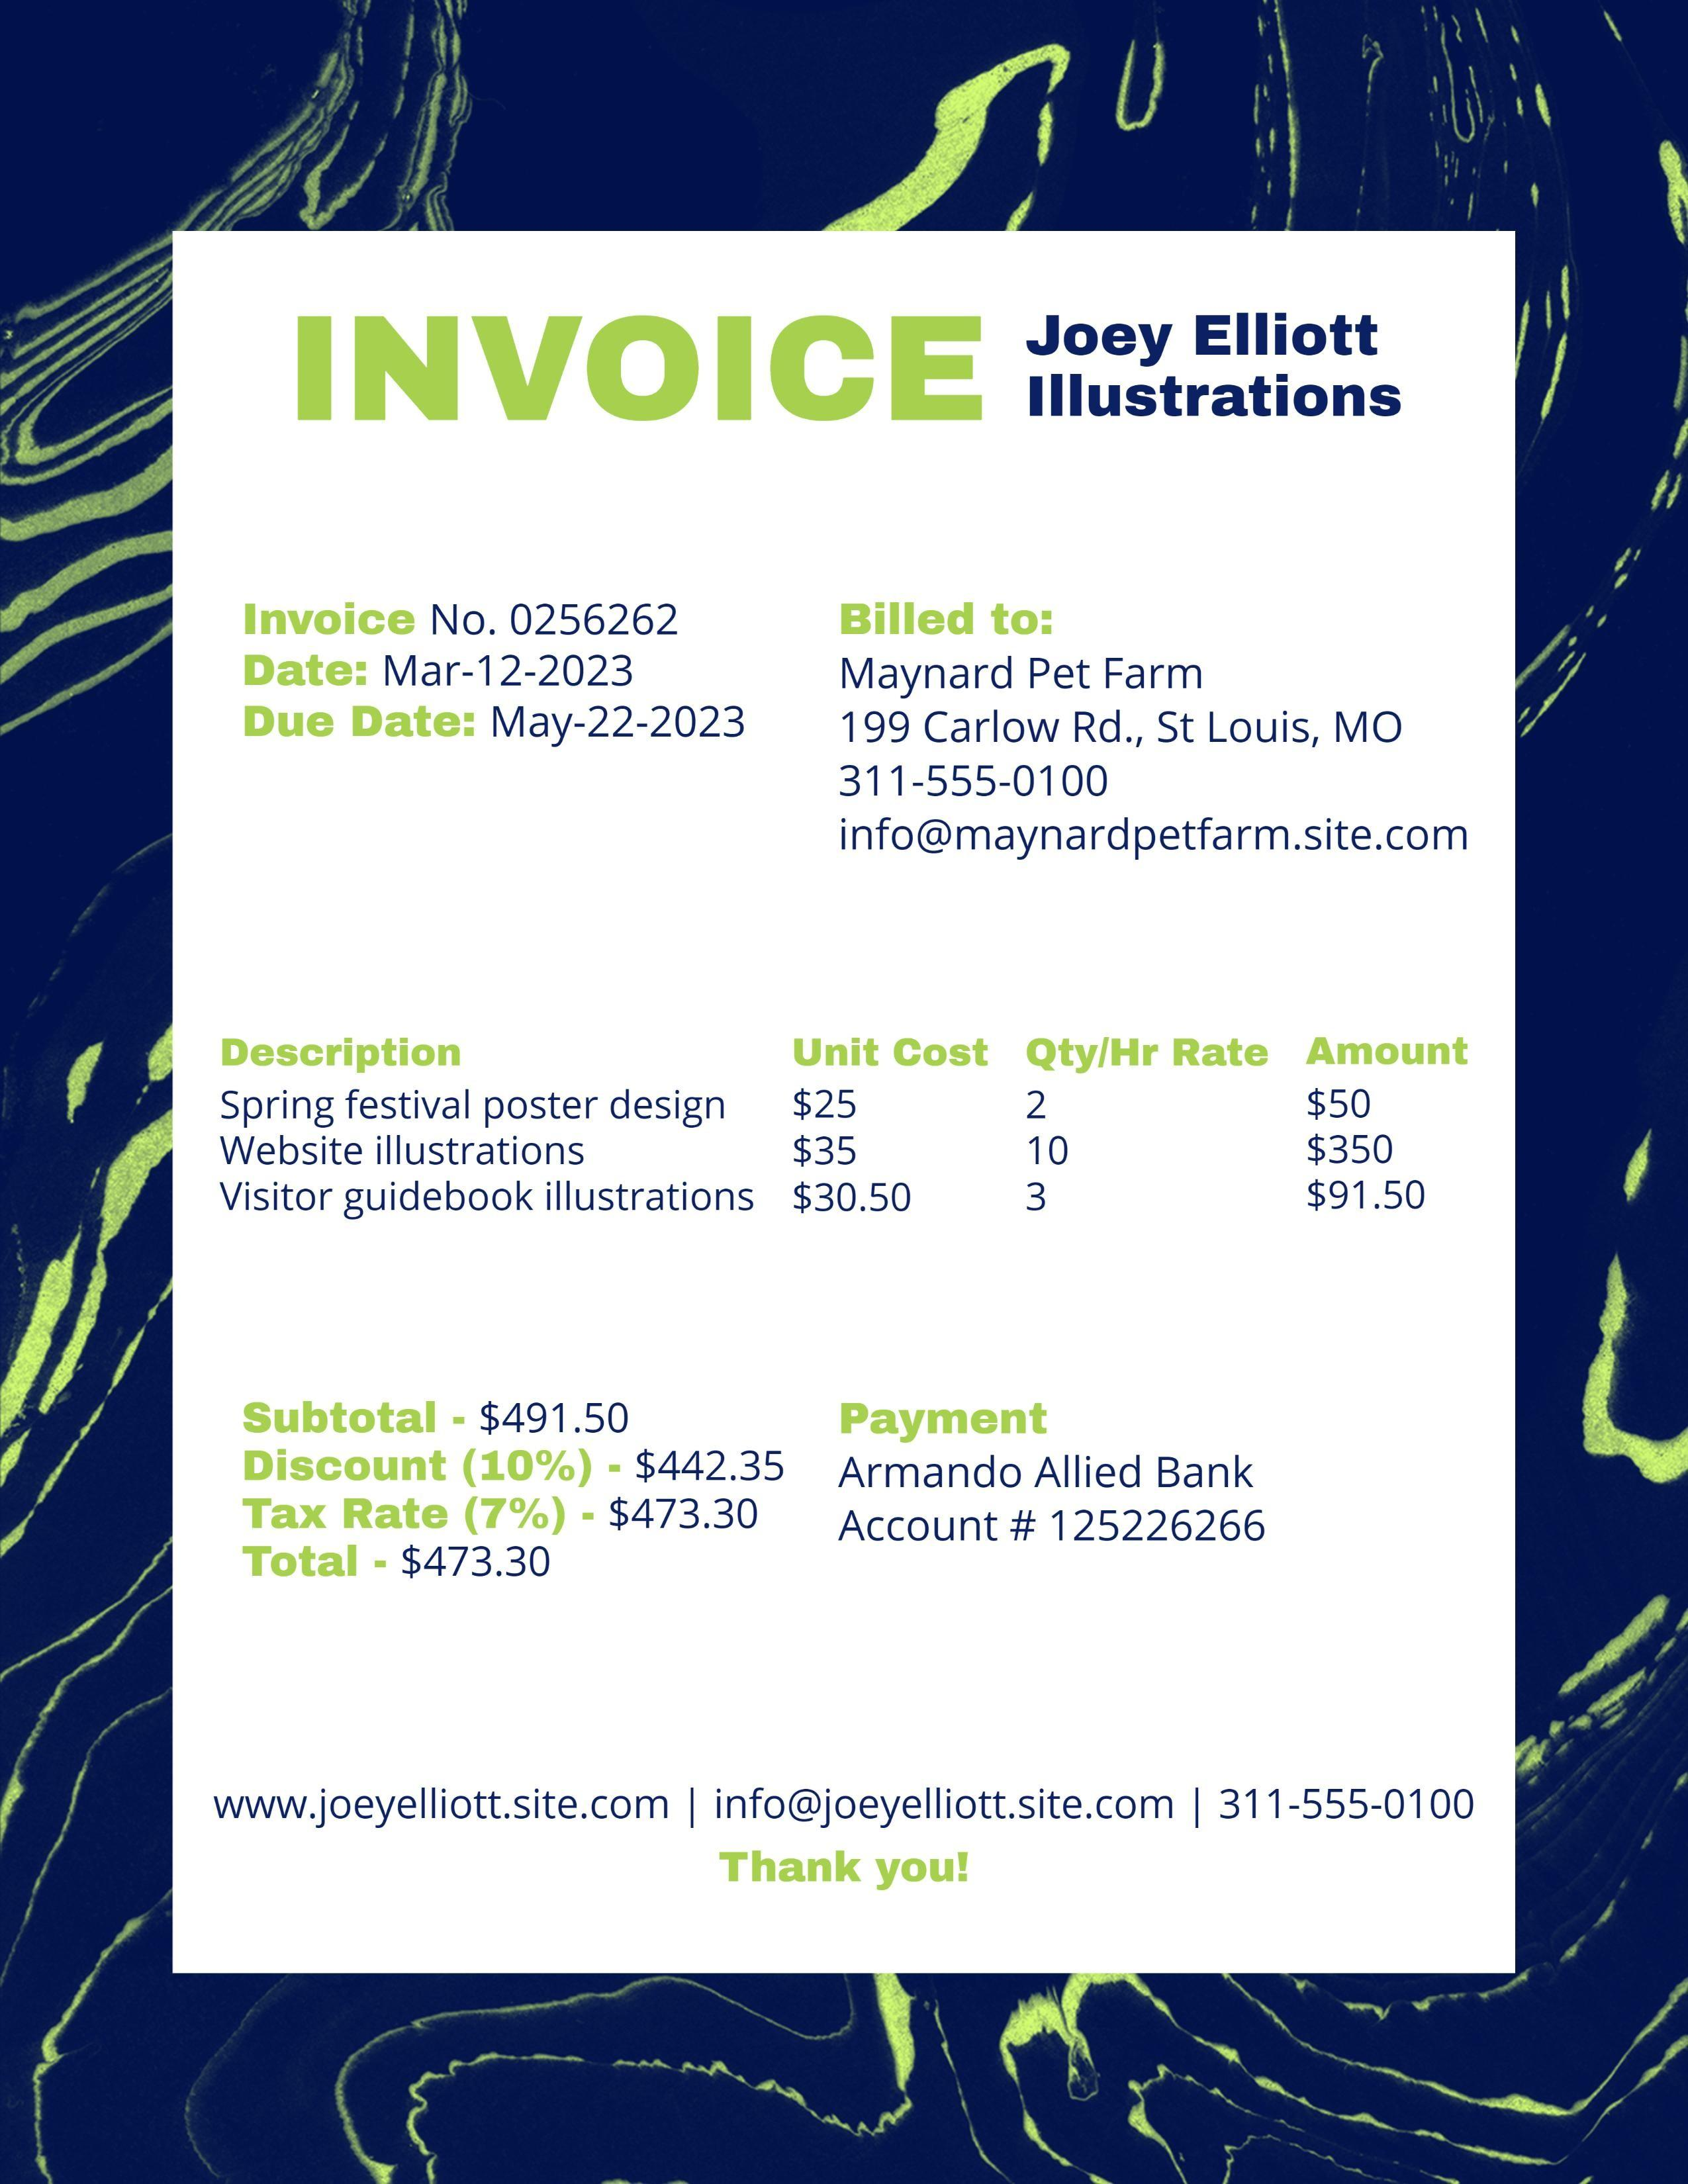ROI: (201, 1028, 1462, 1218), (810, 649, 1483, 891), (914, 1972, 1578, 2179), (240, 1387, 807, 1604), (235, 599, 764, 763), (824, 1396, 1291, 1567), (1013, 308, 1423, 438)
